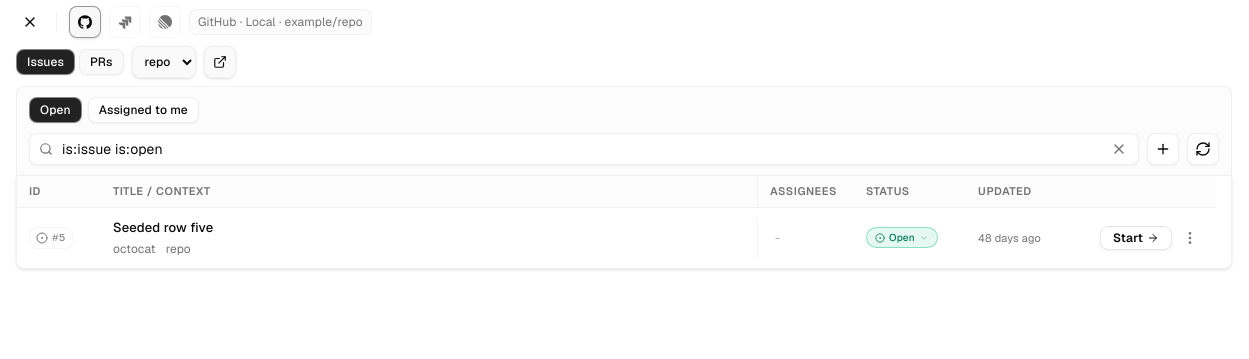
Test: tasks default load and result cache › switching kind back paints cached rows without a skeleton
This screenshot has width=1249, height=359.
Check: the heading "Seeded row five" is shown, box [113,218,213,238]
Click the button "PRs": point(101, 62) [79,49,124,75]
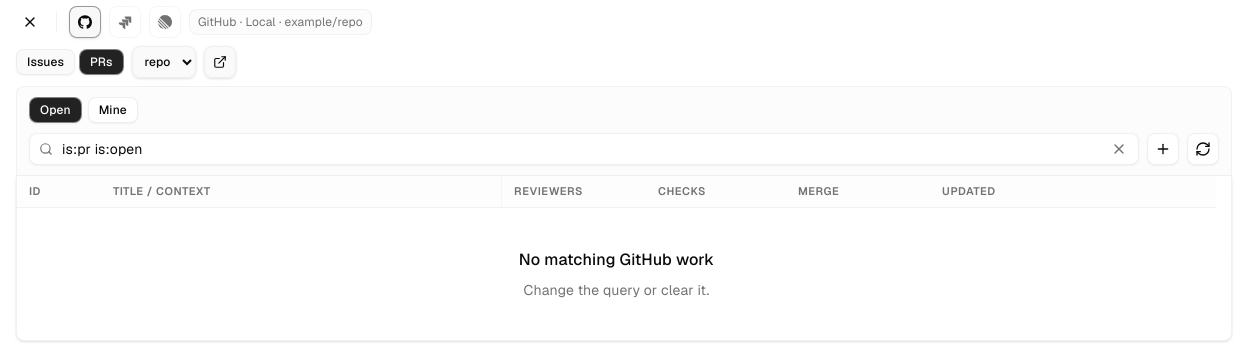
Check: the button "Seeded row five" is gone
Click the button "Issues": point(46, 62) [16,49,75,75]
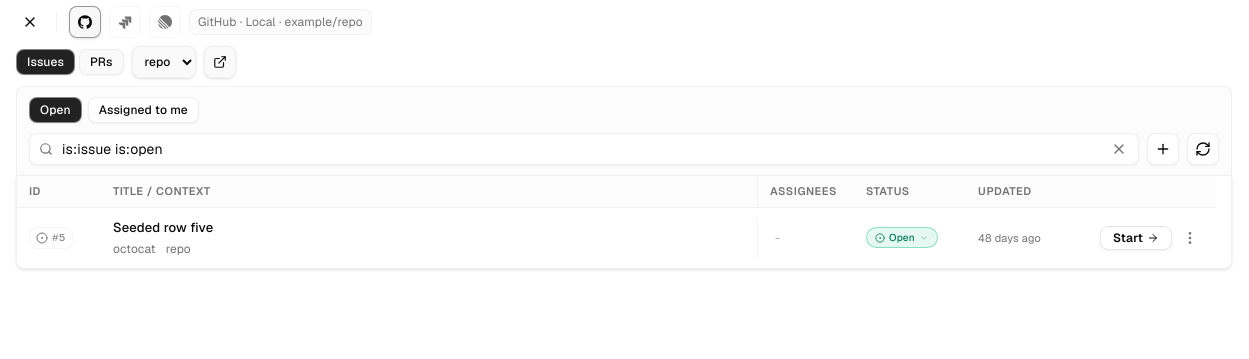
Check: the heading "Seeded row five" is shown, box [113,218,213,238]
